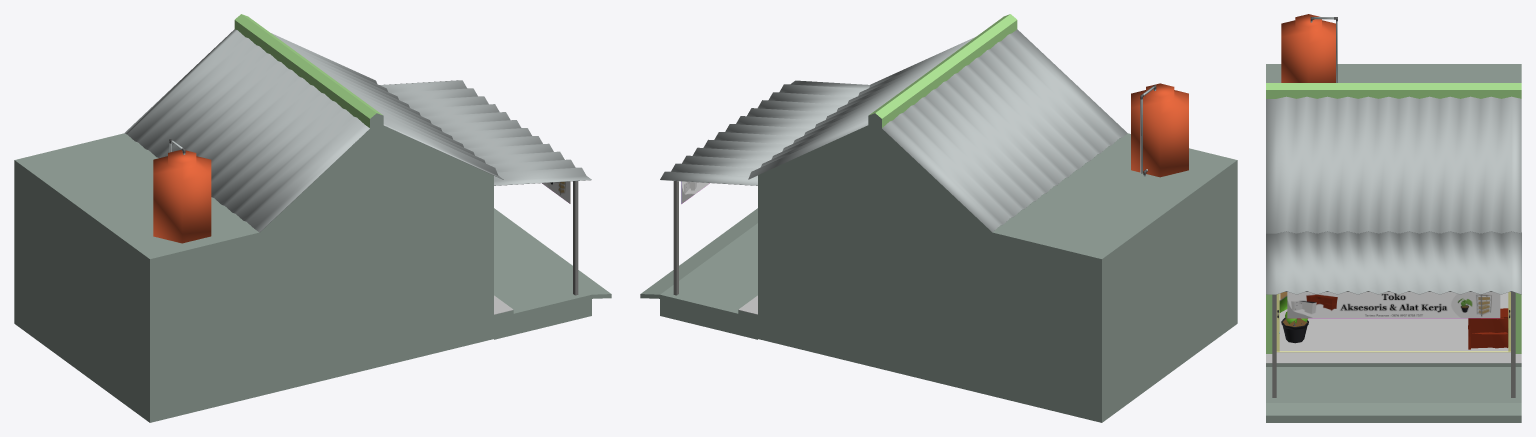
The model's file is Buildings_Stores_TokoAksesorisDanAlatKerja_1.fbx.
3 renders of one model, left to right at view 1: azimuth 30°, elevation 25°; view 2: azimuth 150°, elevation 25°; view 3: azimuth 270°, elevation 25°, orthographic. The views are drawn at different scales.
Visible parts, largest first — view 1: Buildings_TokoAksesorisDanAlatKerja_1_LOD0; view 2: Buildings_TokoAksesorisDanAlatKerja_1_LOD0; view 3: Buildings_TokoAksesorisDanAlatKerja_1_LOD0.
Part boxes in pixels (x1,y1,x2,y2): Buildings_TokoAksesorisDanAlatKerja_1_LOD0: (14,14,611,422); Buildings_TokoAksesorisDanAlatKerja_1_LOD0: (640,14,1237,422); Buildings_TokoAksesorisDanAlatKerja_1_LOD0: (1266,14,1521,422).
Size of what is drawn, in the model's own units: 1180 by 624 by 600.
